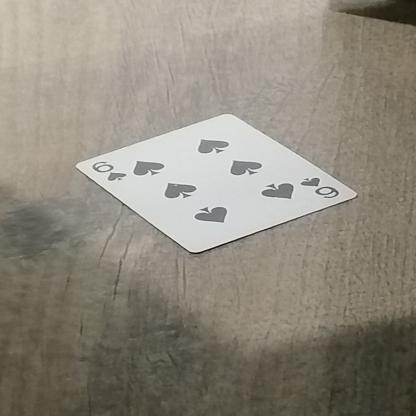6S: (293, 163, 353, 205), (75, 152, 128, 188)
